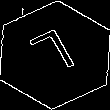L_SE: (27, 25, 83, 85)
